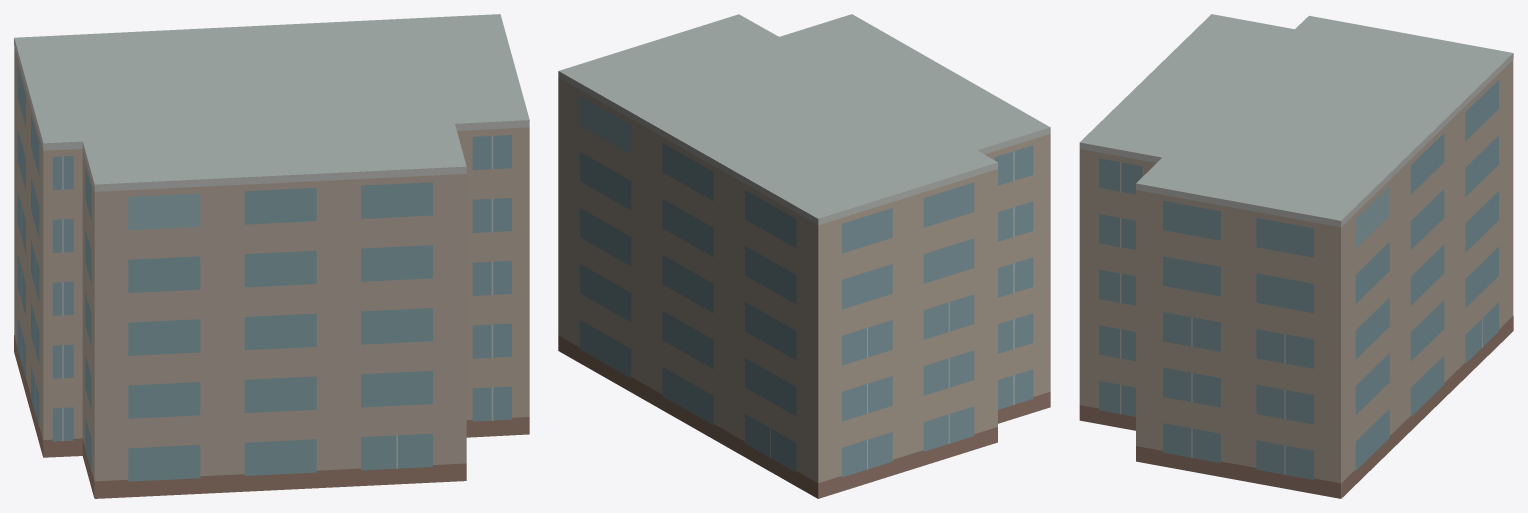
Rendered from survey-upis-32524125.glb.
3 renders of one model, left to right at view 1: azimuth 30°, elevation 25°; view 2: azimuth 150°, elevation 25°; view 3: azimuth 270°, elevation 25°, orthographic. The views are drawn at different scales.
Parts seen in each view (by area): view 1: survey-upis-32524125.tmp; view 2: survey-upis-32524125.tmp; view 3: survey-upis-32524125.tmp.
Part boxes in pixels (box(x1,y1,x2,y2)): survey-upis-32524125.tmp: box(14, 14, 529, 498); survey-upis-32524125.tmp: box(558, 14, 1050, 498); survey-upis-32524125.tmp: box(1079, 14, 1513, 498).
Size of the model in its own units: 16.76 by 10.5 by 14.86.
